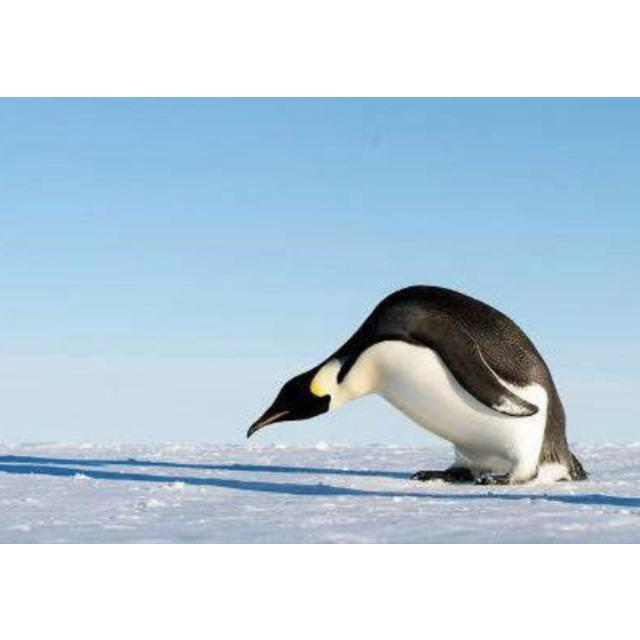penguin: (246, 286, 590, 488)
